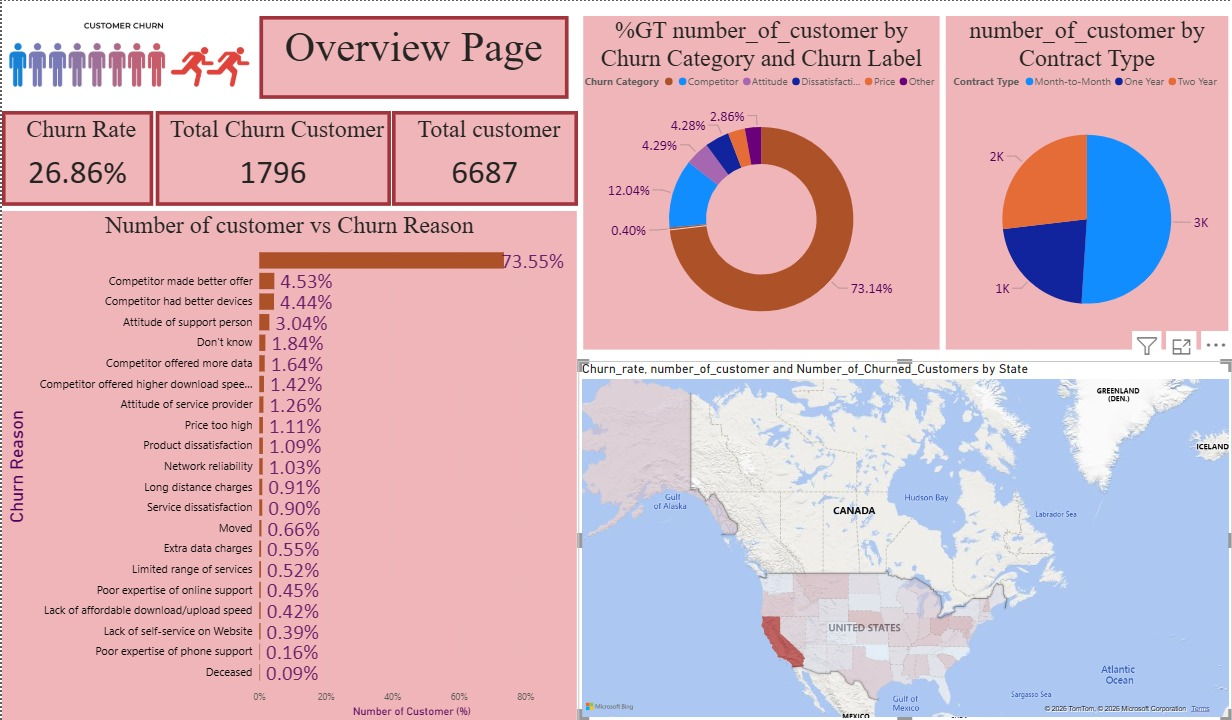

The dashboard page shown, as its layout file describes it:
{"tool":"powerbi","page":{"name":"Overview","canvas":[1640,960],"ordinal":0},"visuals":[{"type":"card","title":"Total customer","fields":{"Values":["_All measure.number_of_unique_customer"]},"box":[520,146.7,248.3,126.7],"z":0},{"type":"card","title":"Churn Rate","fields":{"Values":["_All measure.Churn_rate"]},"box":[0,146.7,201.7,126.7],"z":1000},{"type":"card","title":"Total Churn Customer","fields":{"Values":["_All measure.Number_of_Churned_Customers"]},"box":[205,146.7,313.3,126.7],"z":2000},{"type":"barChart","title":"Number of customer vs Churn Reason","fields":{"Category":["Databel - Data.Churn Reason"],"Y":["_All measure.number_of_unique_customer"]},"box":[0,280,766.7,680],"z":3000},{"type":"donutChart","fields":{"Category":["Databel - Data.Churn Category"],"Y":["Divide(_All measure.number_of_customer, ScopedEval(_All measure.number_of_customer, []))"],"Series":["Databel - Data.Churn Label"]},"box":[775,20,475,445],"z":4000},{"type":"pieChart","fields":{"Series":["Databel - Data.Contract Type"],"Y":["_All measure.number_of_customer"]},"box":[1258.3,20,376.7,445],"z":5000},{"type":"filledMap","fields":{"Category":["Databel - Data.State"]},"box":[768,480,872,480],"z":6000},{"type":"textbox","box":[343.3,20,411.7,110],"z":6001},{"type":"image","box":[5,18.3,330,106.7],"z":6002}]}

Visuals, with their boxes in screenshot pixels (x1, y1, x2, y2), scaled from the page's 1640x960 canvas onto the 1232x720 screenshot:
"Total customer" card: 391, 110, 577, 205
"Churn Rate" card: 0, 110, 152, 205
"Total Churn Customer" card: 154, 110, 389, 205
"Number of customer vs Churn Reason" barChart: 0, 210, 576, 719
donutChart - Databel - Data.Churn Category x Divide(_All measure.number_of_customer, ScopedEval(_All measure.number_of_customer, [])): 582, 15, 939, 349
pieChart - Databel - Data.Contract Type x _All measure.number_of_customer: 945, 15, 1228, 349
filledMap - Databel - Data.State: 577, 360, 1231, 719
textbox: 258, 15, 567, 98
image: 4, 14, 252, 94
